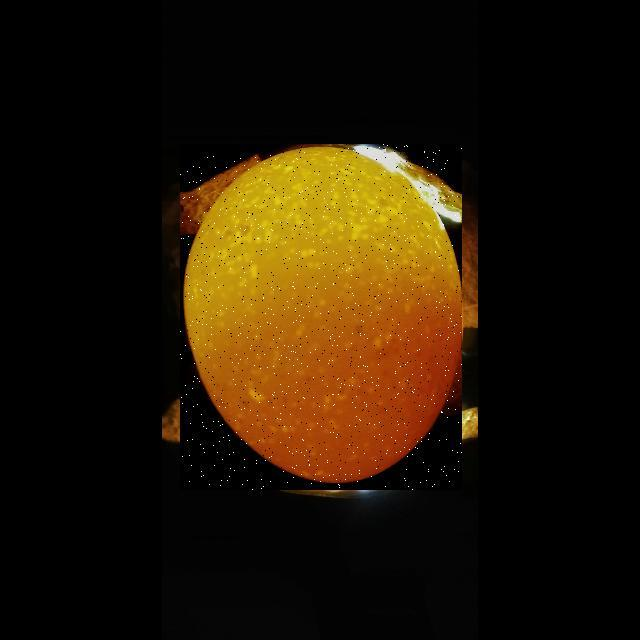Fertile: (180, 144, 462, 490)
